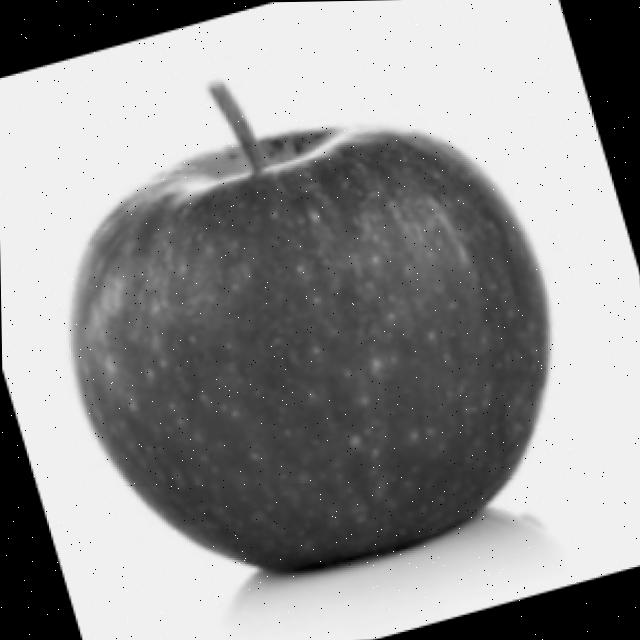Ripe: (61, 112, 556, 575)
